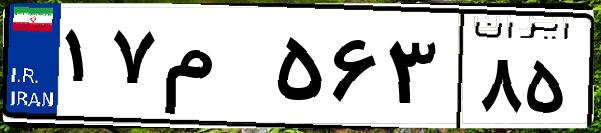1: (57, 26, 110, 100)
3: (385, 28, 445, 110)
5: (270, 28, 330, 110), (525, 38, 570, 115)
6: (330, 28, 385, 110)
7: (110, 28, 158, 98)
8: (475, 38, 525, 113)
م: (158, 20, 270, 120)
